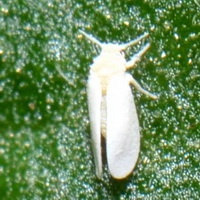insect: (80, 30, 148, 178)
